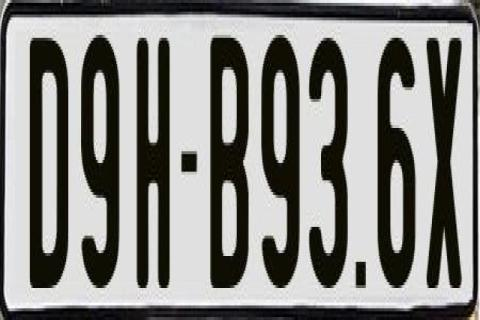0: (309, 32, 353, 296), (80, 29, 124, 285), (262, 35, 302, 297), (378, 32, 416, 291)
B: (210, 38, 254, 297)
D: (29, 29, 70, 291)
H: (136, 29, 168, 297)
X: (424, 32, 461, 285)
